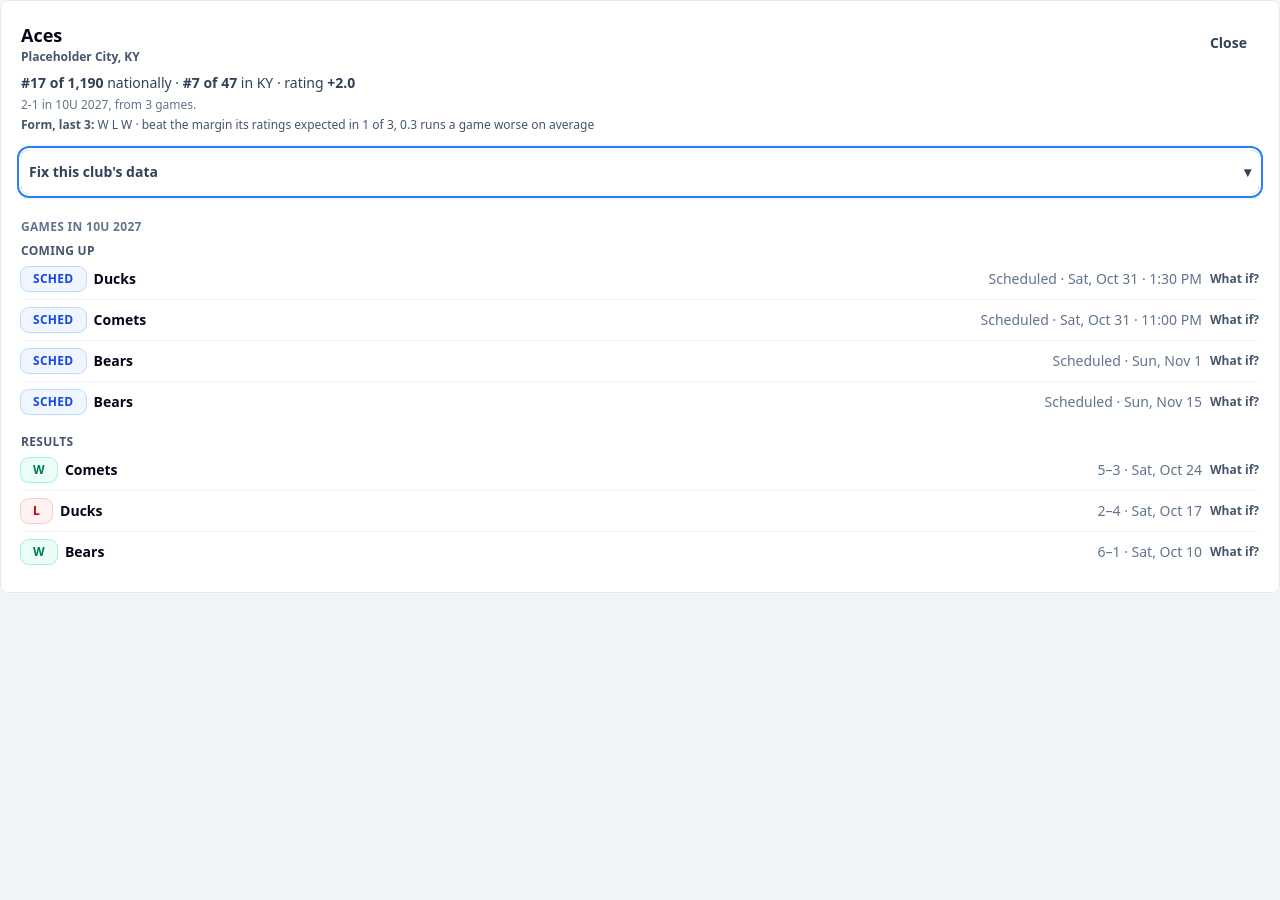
Test: the club sheet › folds the tools that change the club's data away until asked for
This screenshot has width=1280, height=900.
Expected: the button "Rename" is not shown
Expected: the button "Unlink" is not shown
Press Enter
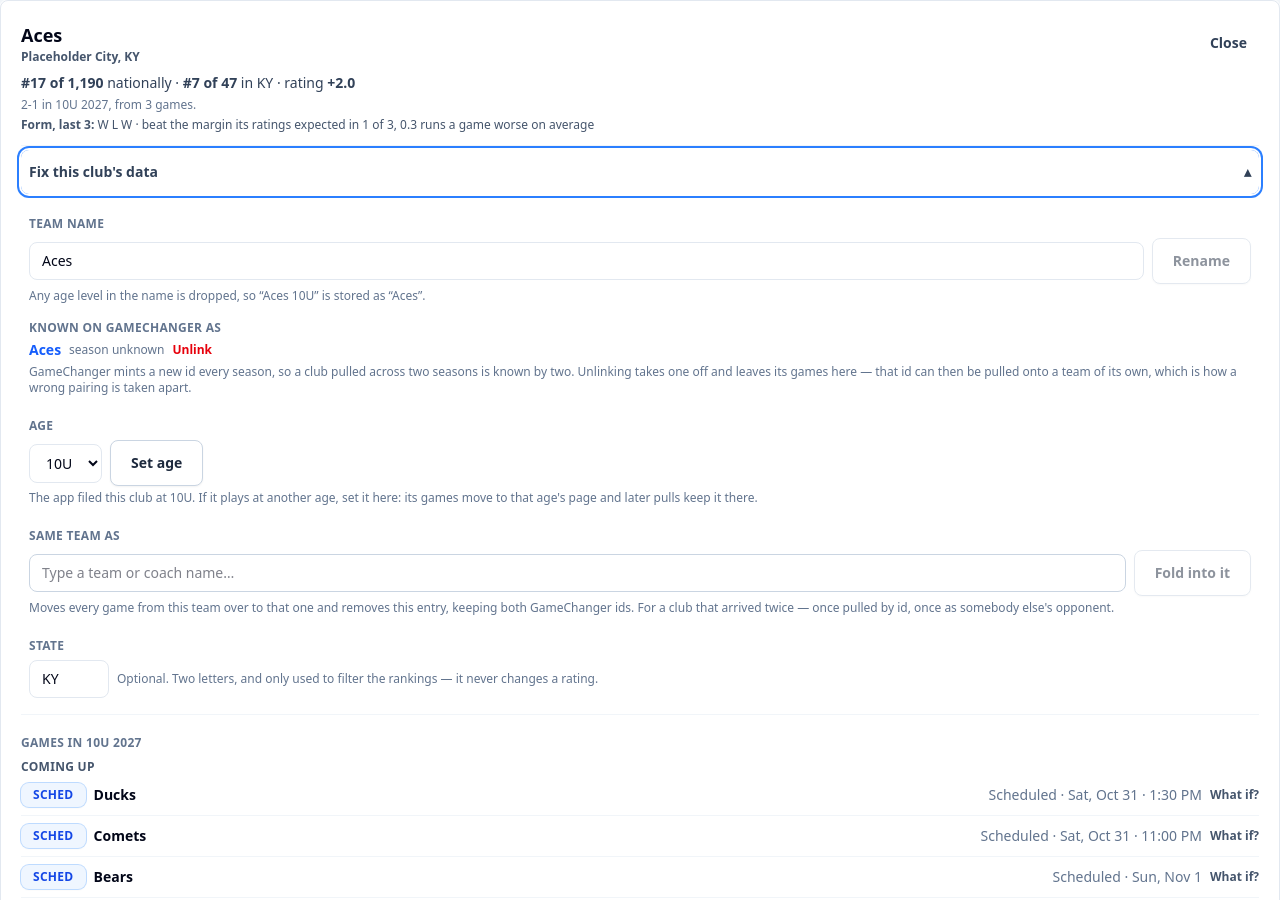
Expected: the button "Fix this club's data ▴" is expanded
Expected: the button "Rename" is shown, 1152,238 -> 1251,284
Expected: the button "Unlink" is shown, 172,342 -> 212,358
Click the button "Fix this club's data ▴" at (93, 172), box 21,150 -> 1259,194
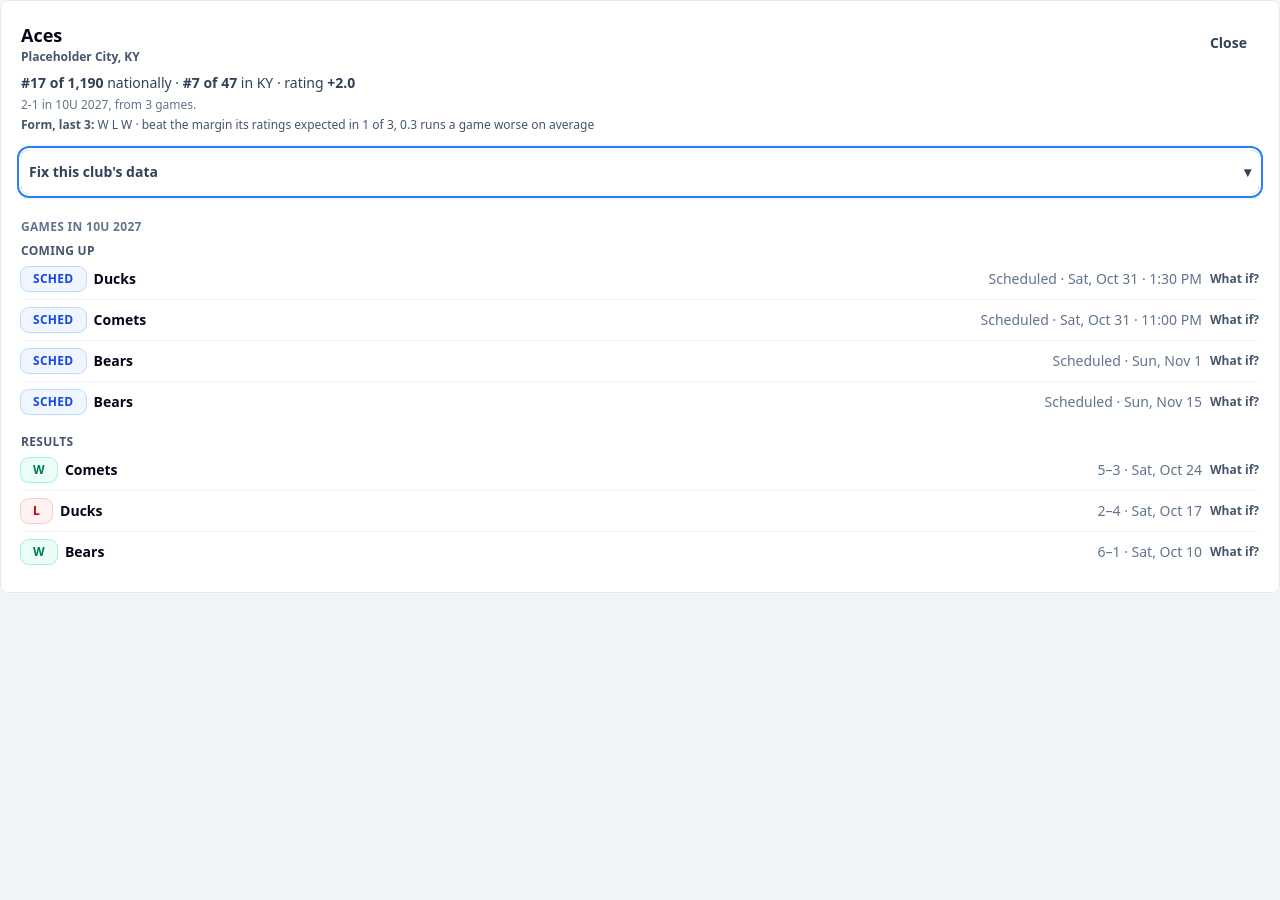
Expected: the button "Fix this club's data ▾" is collapsed, 21,150 -> 1259,194
Expected: the button "Rename" is gone
